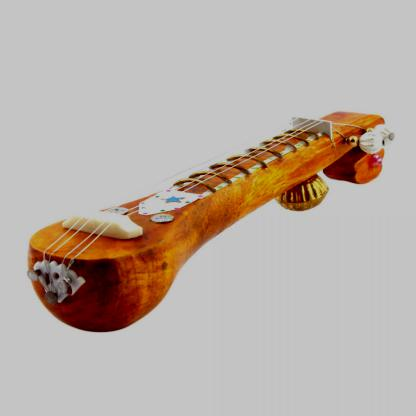Veena: (23, 151, 288, 339)
